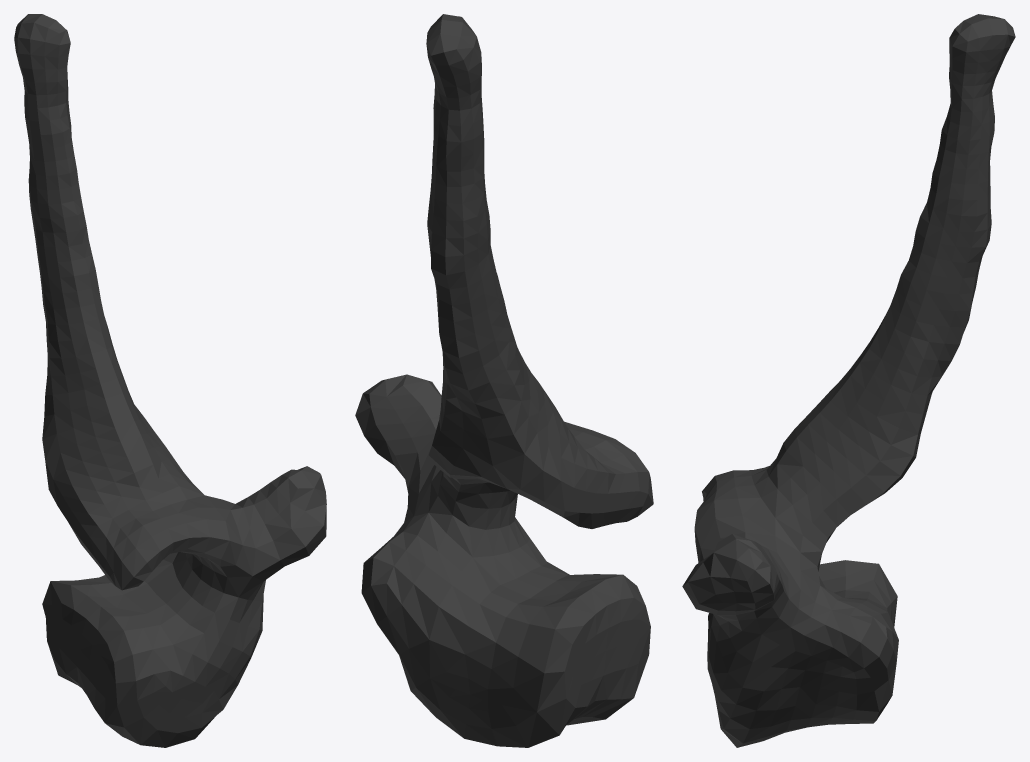
3 renders of one model, left to right at view 1: azimuth 30°, elevation 25°; view 2: azimuth 150°, elevation 25°; view 3: azimuth 270°, elevation 25°, orthographic. The views are drawn at different scales.
Visible parts, largest first — view 1: T5; view 2: T5; view 3: T5.
Boxes of the visible parts, x1,y1,x2,y2 form: T5: (14, 14, 326, 747); T5: (355, 14, 653, 747); T5: (682, 14, 1015, 747).
Bounding box in the file's own units: 0.00681 × 0.0193 × 0.00821.
Materials: 1 (1 with a texture image).
